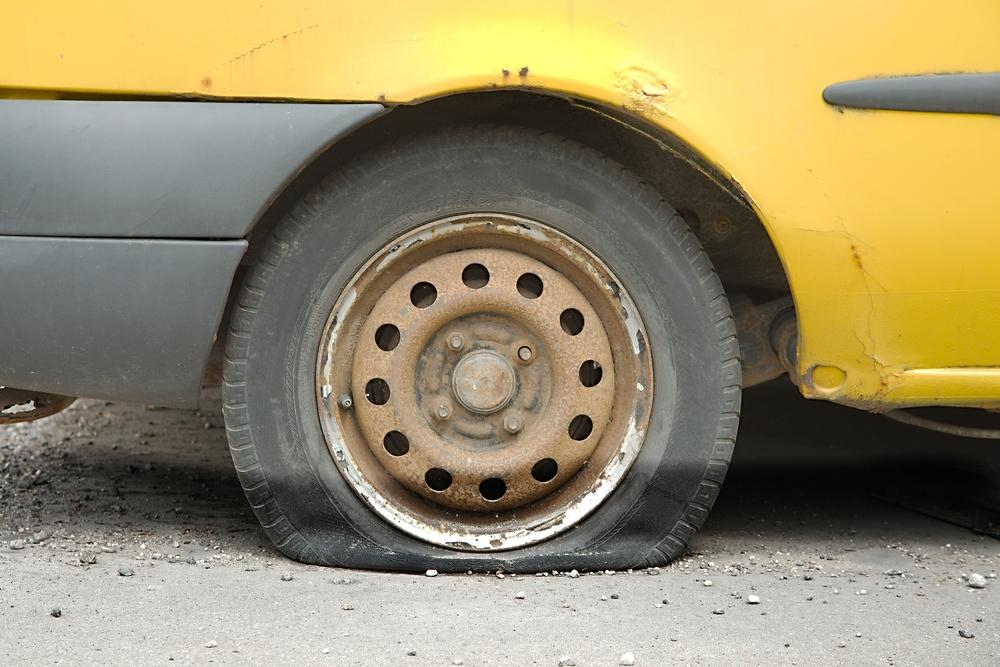tire flat: (219, 122, 743, 571)
